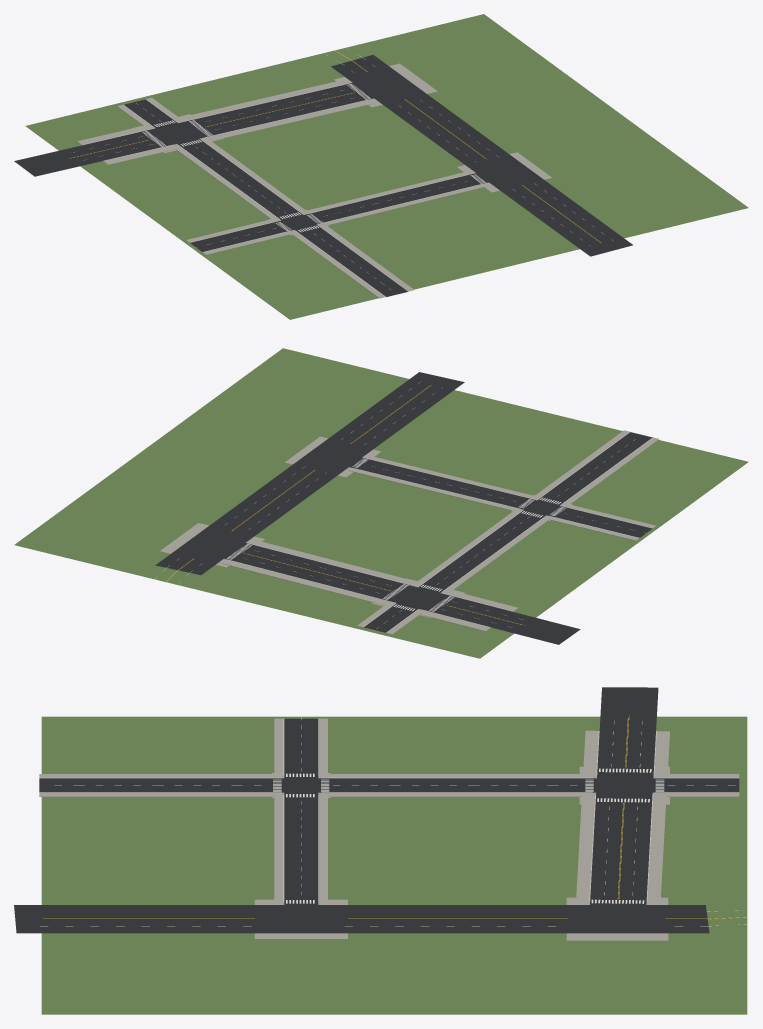
The model's file is Ground_7_6.fbx.
3 renders of one model, top to bottom at view 1: azimuth 30°, elevation 25°; view 2: azimuth 150°, elevation 25°; view 3: azimuth 270°, elevation 25°, orthographic. The views are drawn at different scales.
Parts seen in each view (by area): view 1: Ground_7_6; view 2: Ground_7_6; view 3: Ground_7_6.
Part boxes in pixels (bbox=[...]): Ground_7_6: bbox=[14, 14, 748, 319]; Ground_7_6: bbox=[14, 348, 748, 658]; Ground_7_6: bbox=[14, 687, 747, 1014].
Size of the model in its own units: 274 by 0.14 by 260.
